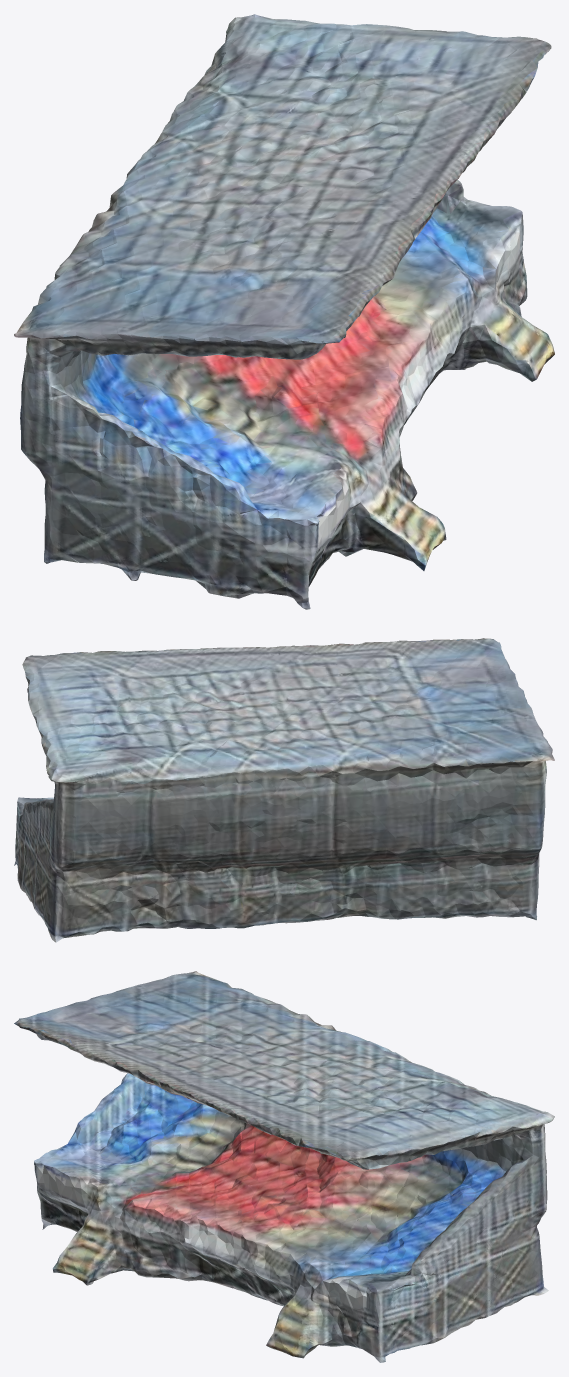
File: grandstand_steel.glb
3 views of the same model, one above another, from view 1: azimuth 30°, elevation 25°; view 2: azimuth 150°, elevation 25°; view 3: azimuth 270°, elevation 25° (orthographic). The views are drawn at different scales.
Parts seen in each view (by area): view 1: geometry_0; view 2: geometry_0; view 3: geometry_0.
Boxes of the visible parts, box(x1,y1,x2,y2) form: geometry_0: box(14, 14, 554, 609); geometry_0: box(14, 638, 554, 942); geometry_0: box(14, 971, 554, 1362).
Size of the model in its own units: 0.9333 by 0.437 by 0.9078.
1 material, 1 textured.
